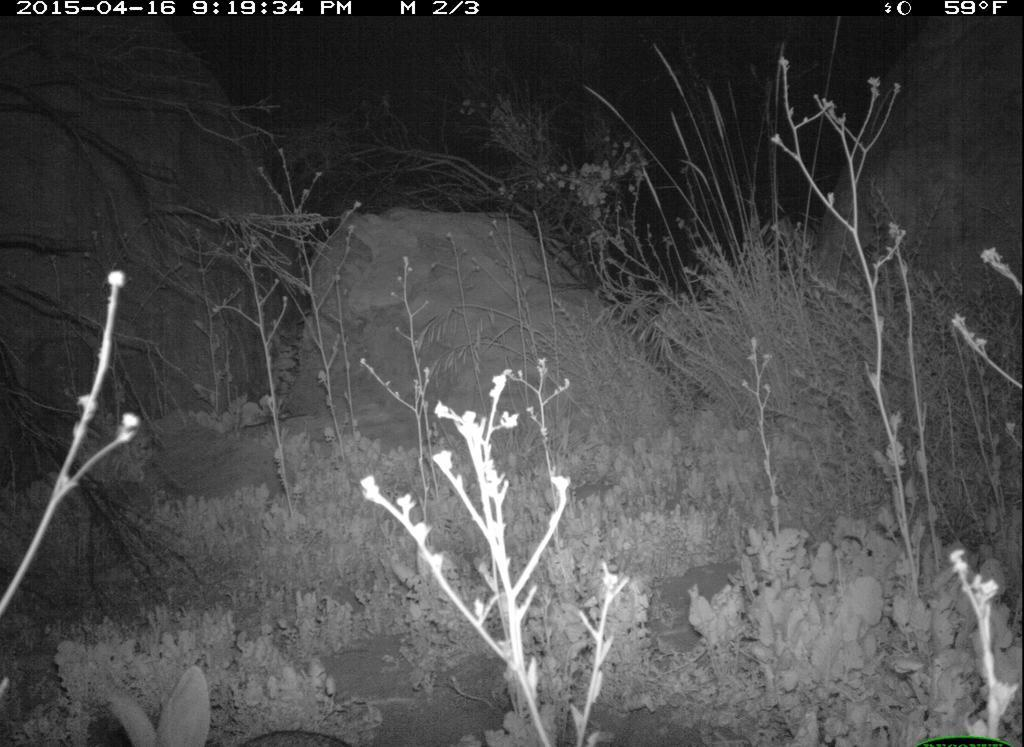rabbit: (86, 662, 340, 747)
